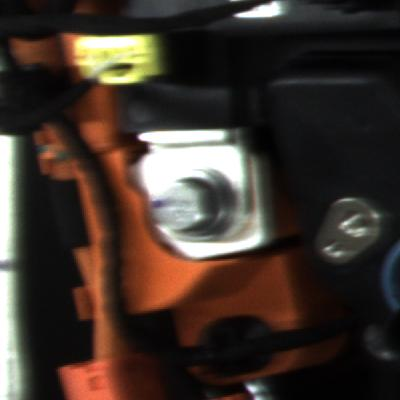nut_b: (151, 170, 236, 247)
